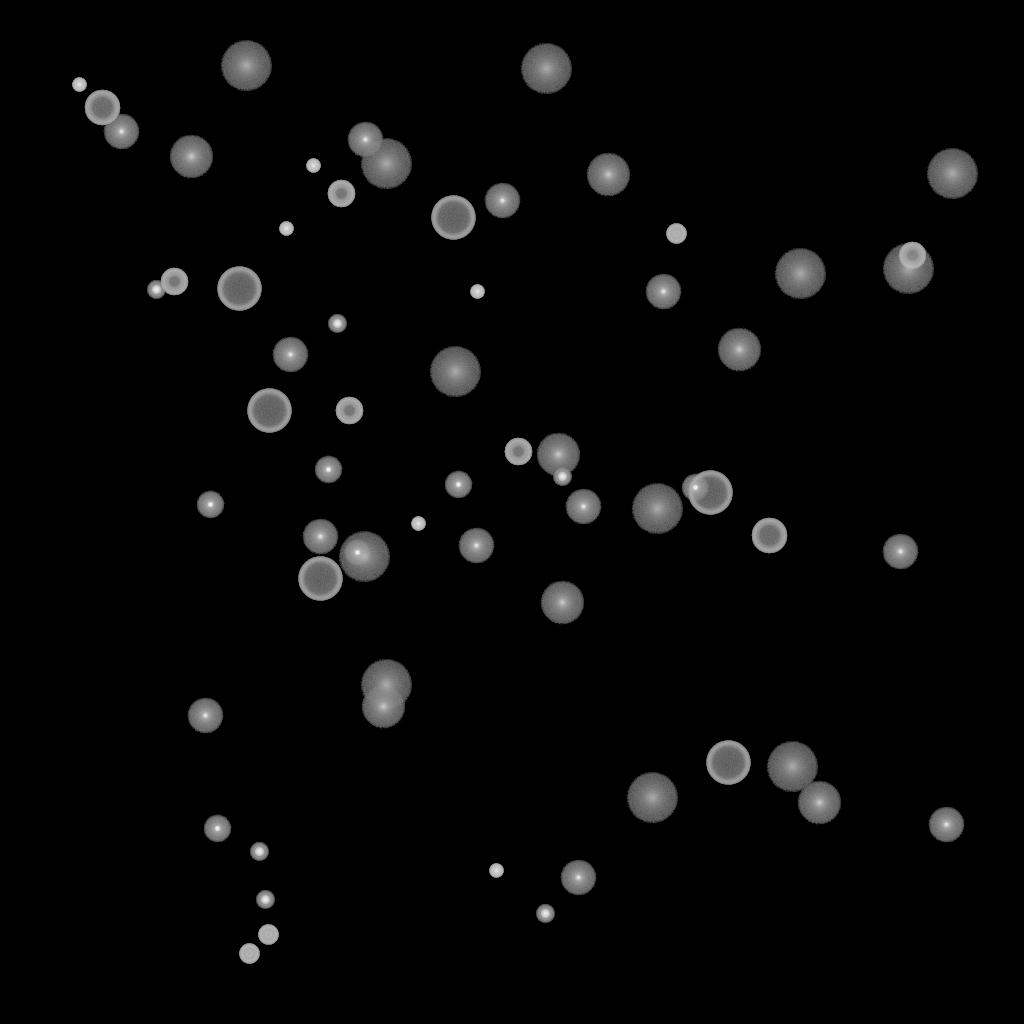depth:-10: (343, 539, 371, 567), (681, 474, 709, 502), (196, 491, 224, 519), (444, 471, 472, 499), (203, 815, 231, 843), (314, 456, 342, 484)
depth:-20: (147, 281, 165, 299), (536, 905, 554, 923), (250, 843, 268, 861), (553, 468, 571, 486), (328, 315, 346, 333), (256, 891, 274, 909)
depth:-30: (279, 222, 293, 236), (489, 864, 503, 878), (72, 78, 86, 92), (306, 159, 320, 173), (411, 517, 425, 531), (470, 285, 484, 299)
depth:-40: (239, 944, 259, 964), (258, 925, 278, 945), (666, 224, 686, 244)
depth:-50: (504, 438, 532, 466), (160, 268, 188, 296), (327, 180, 355, 208), (335, 397, 363, 425), (898, 242, 926, 270)
depth:-60: (751, 518, 787, 554), (84, 90, 120, 126)
depth:-70: (706, 741, 750, 785), (688, 471, 732, 515), (217, 267, 261, 311), (298, 557, 342, 601), (247, 389, 291, 433), (431, 196, 475, 240)
depth:0: (347, 122, 383, 158), (928, 807, 964, 843), (565, 489, 601, 525), (272, 337, 308, 373), (187, 698, 223, 734), (302, 519, 338, 555), (458, 528, 494, 564), (560, 860, 596, 896), (484, 183, 520, 219), (645, 274, 681, 310), (882, 534, 918, 570), (103, 114, 139, 150)
depth:10: (169, 135, 213, 179), (361, 685, 405, 729), (717, 328, 761, 372), (536, 433, 580, 477), (797, 781, 841, 825), (586, 153, 630, 197), (540, 581, 584, 625)
depth:20: (926, 149, 978, 199), (882, 244, 934, 294), (338, 532, 390, 582), (631, 484, 683, 534), (429, 347, 481, 397), (774, 249, 826, 299), (520, 44, 572, 94), (360, 139, 412, 189), (766, 742, 818, 792), (360, 660, 412, 710), (626, 773, 678, 823), (220, 41, 272, 91)
